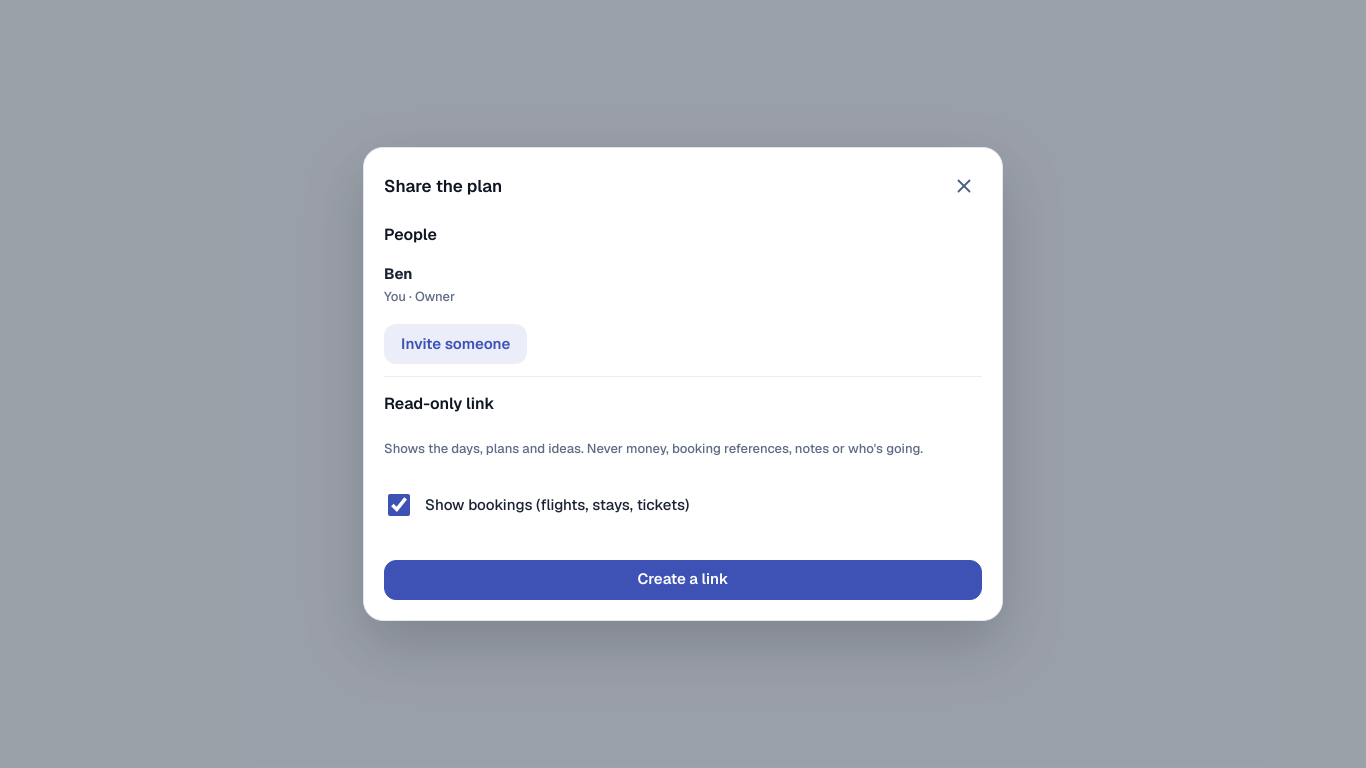
Test: the share sheet for the owner › makes a single-use invite link and shows it with Copy and how long it works
The width and height of the screenshot is (1366, 768).
Click the button "Invite someone" at (456, 344), box [384,324,527,364]
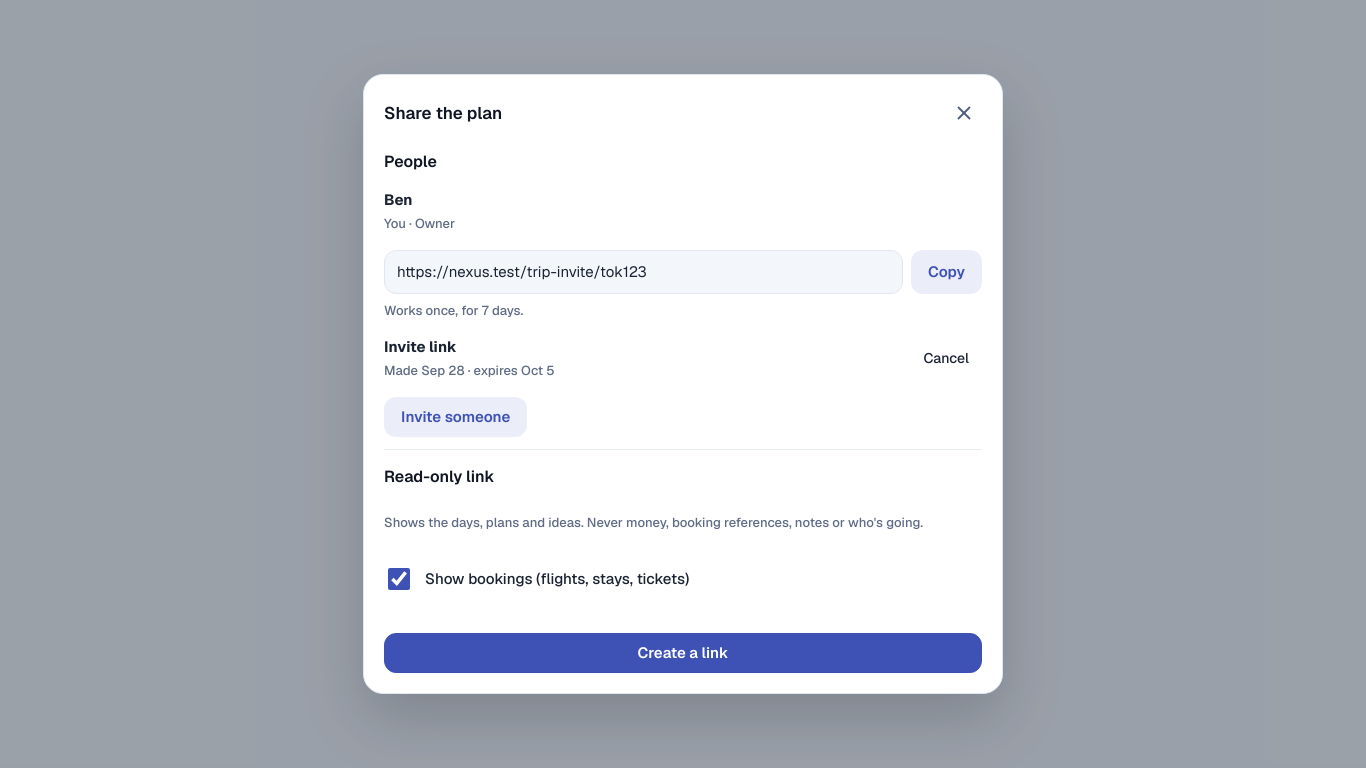
Expected: the field named "Invite link" holds "https://nexus.test/trip-invite/tok123", [384,250,903,294]
Expected: the text "Works once, for 7 days." is shown, [384,302,523,319]
Expected: the number of buttons "Copy" is 1, [911,250,982,294]
